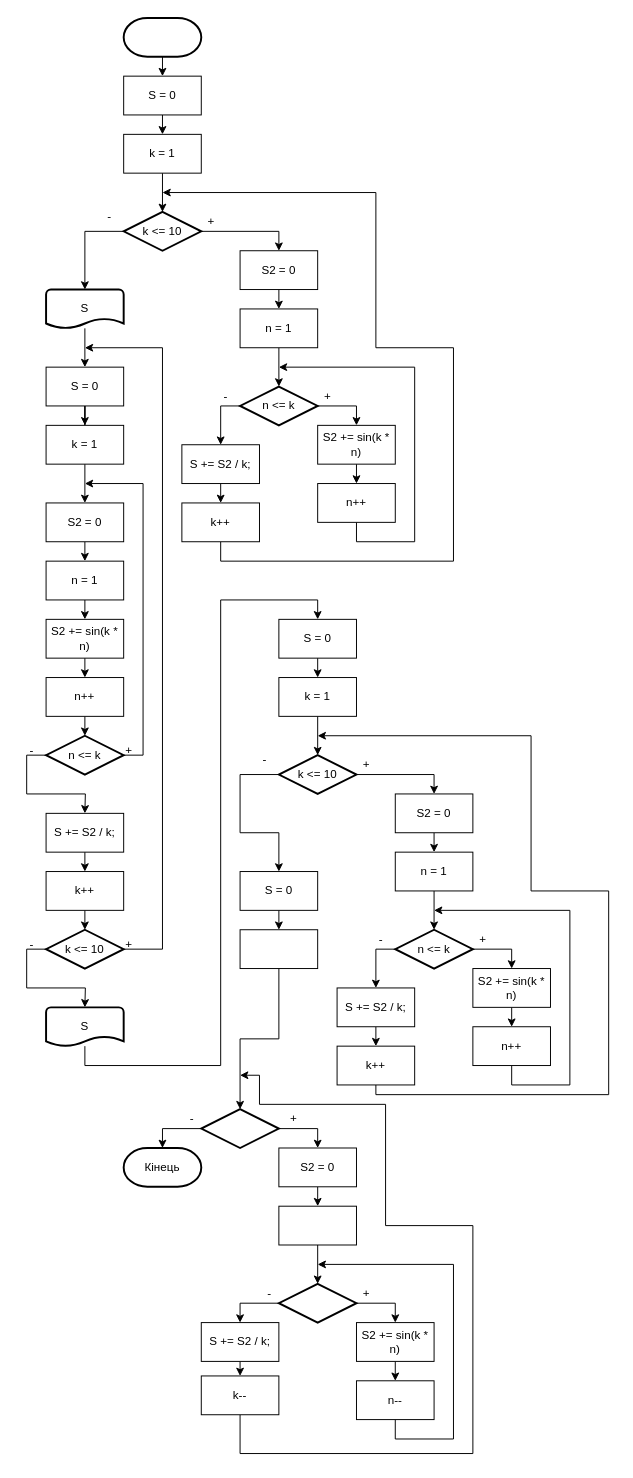
Some shapes in this 633 by 1478 pixel diagram are drawn without their labels. The shapes that lost their labels are listed below. From the top down, each one's centre as x and y in pixels, then its label:
the point at 162,36: Початок
the point at 278,949: k = 10
the point at 239,1128: k => 1
the point at 317,1225: n = k
the point at 317,1302: n => 1
